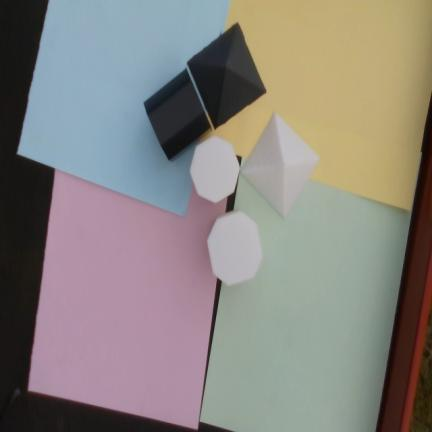Piramide: (239, 112, 320, 220), (187, 22, 267, 130)
Prisma_hexagonal: (143, 68, 211, 160), (207, 210, 264, 287), (189, 136, 240, 204)
